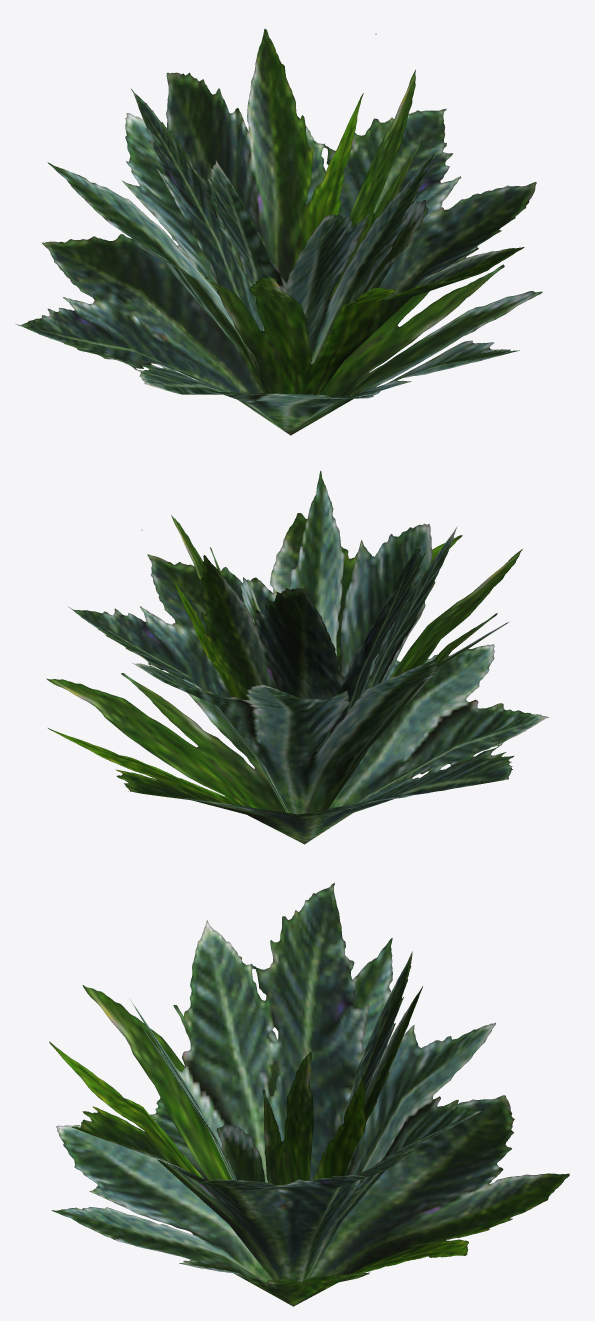
Rendered from m_grass08.fbx.
3 views of the same model, one above another, from view 1: azimuth 30°, elevation 25°; view 2: azimuth 150°, elevation 25°; view 3: azimuth 270°, elevation 25° (orthographic). The views are drawn at different scales.
Parts seen in each view (by area): view 1: m_grass08; view 2: m_grass08; view 3: m_grass08.
Boxes of the visible parts, left/top/right/bottom form: m_grass08: left=15, top=29, right=542, bottom=435; m_grass08: left=46, top=471, right=549, bottom=844; m_grass08: left=49, top=882, right=569, bottom=1306.
Bounding box in the file's own units: 1.62 × 1.13 × 1.6.
